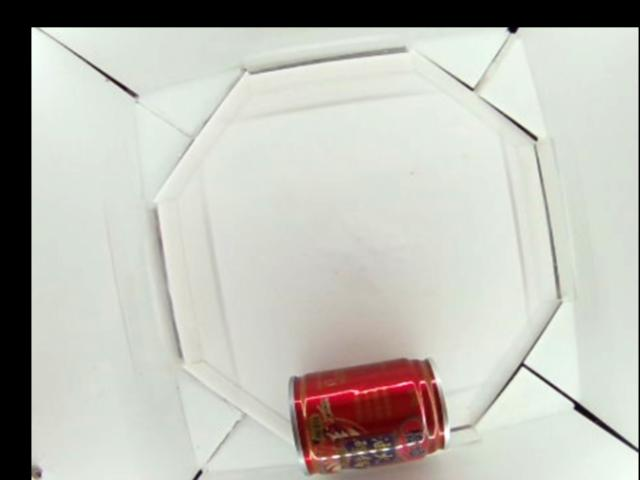Bottle: (289, 357, 452, 477)
